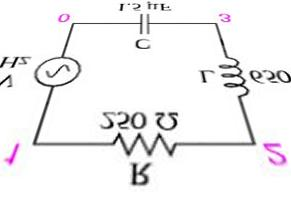inductor: (215, 48, 251, 102)
